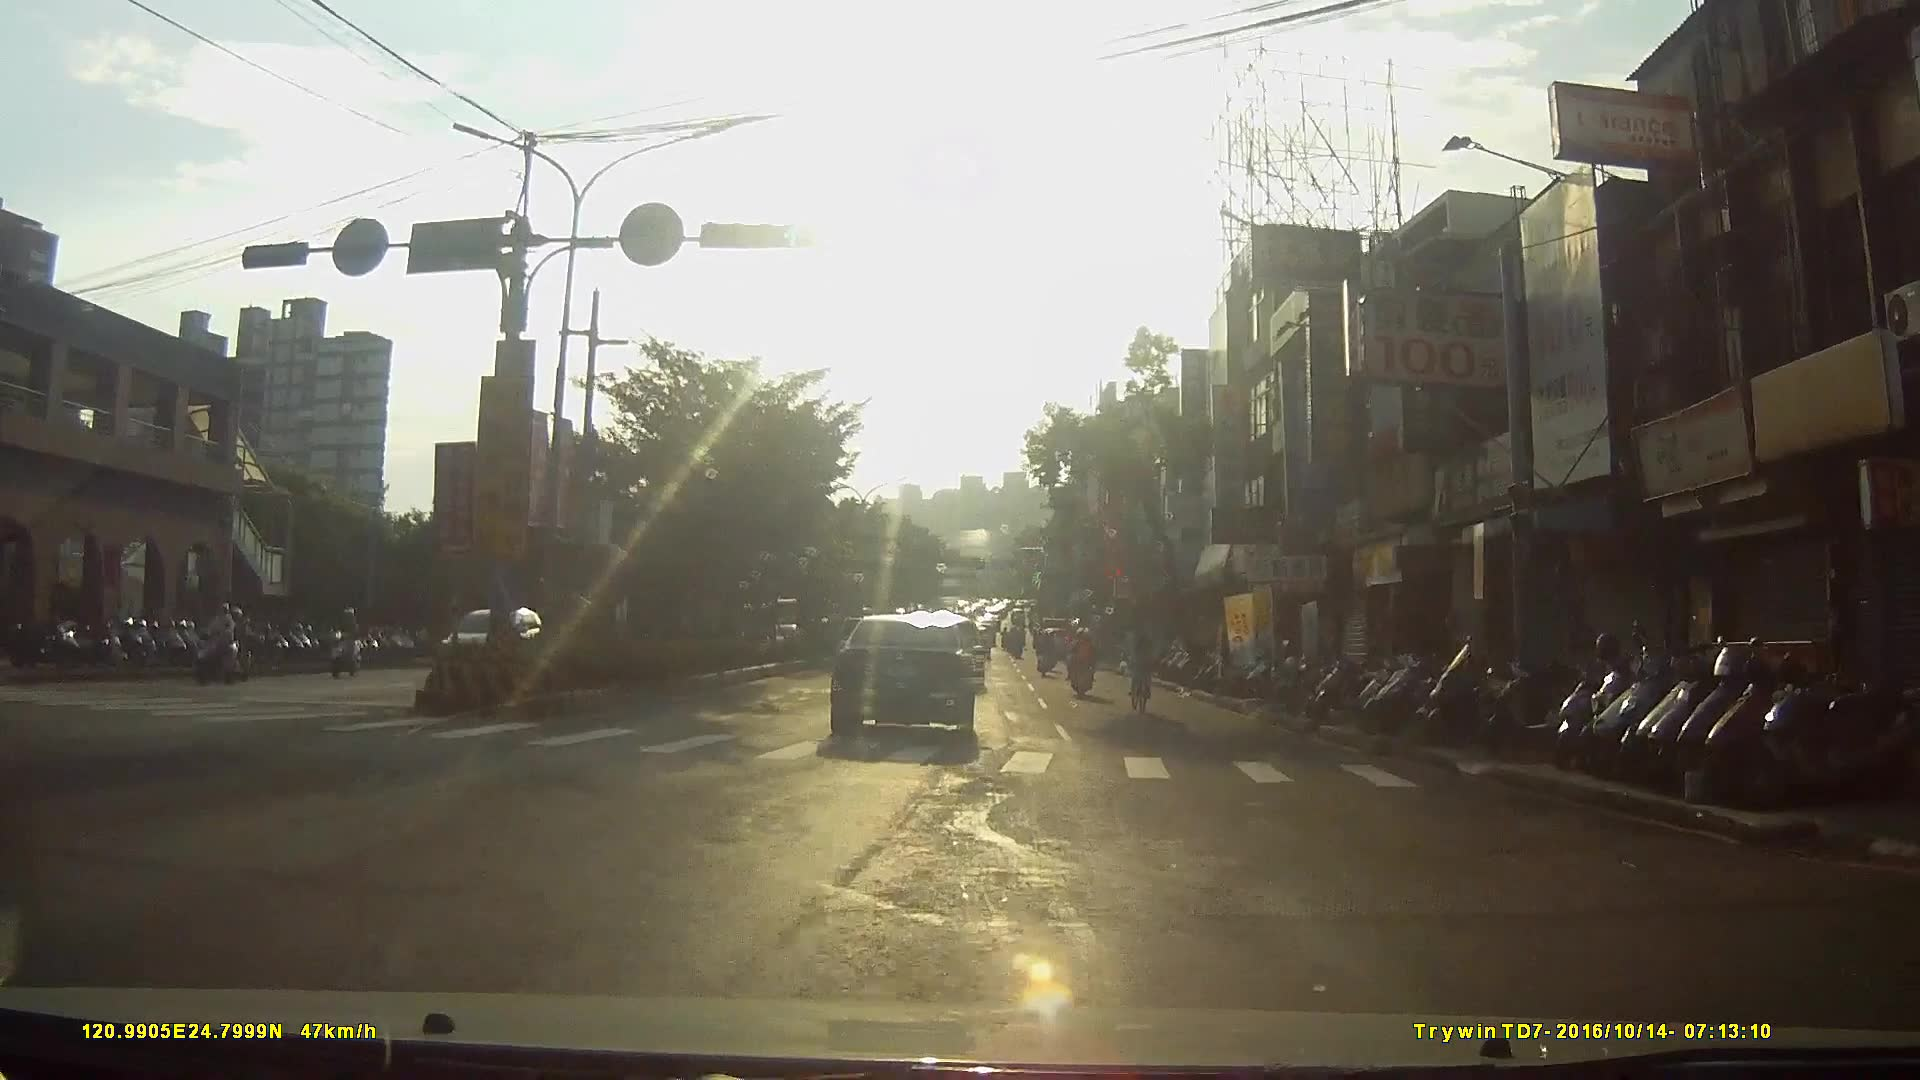rider: (194, 606, 253, 688), (1122, 621, 1160, 717), (332, 607, 366, 679), (1070, 626, 1098, 699), (1033, 626, 1060, 681)
vehicle: (834, 609, 991, 753)
